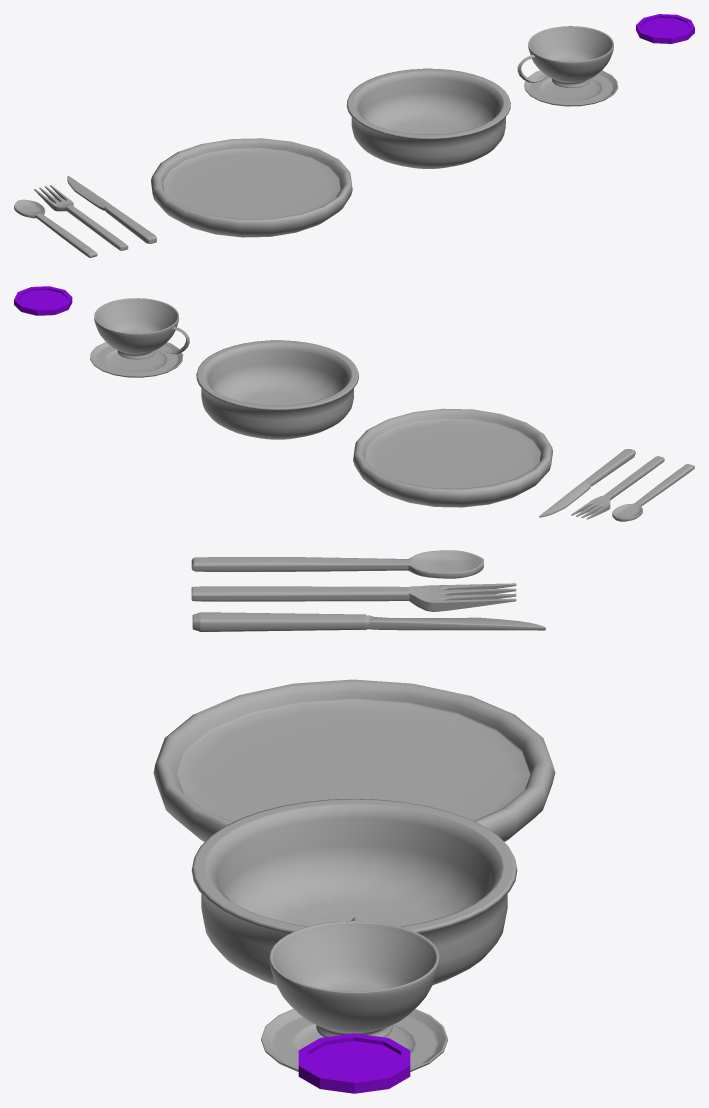
File: DiningRoom_Dishware_UVLens.fbx
The picture shows the model from 3 angles, top to bottom: view 1: azimuth 30°, elevation 25°; view 2: azimuth 150°, elevation 25°; view 3: azimuth 270°, elevation 25°; orthographic projection. The views are drawn at different scales.
Visible parts, largest first — view 1: Dishware_Plate, Dishware_Bowl, pCylinder4, Dishware_Saucer, Dishware_Fork, Dishware_Knife, Dishware_Spoon, polySurface1, pCylinder6; view 2: Dishware_Plate, Dishware_Bowl, pCylinder4, Dishware_Saucer, Dishware_Knife, Dishware_Fork, Dishware_Spoon, polySurface1, pCylinder6; view 3: Dishware_Plate, Dishware_Bowl, pCylinder4, Dishware_Fork, Dishware_Knife, Dishware_Spoon, Dishware_Saucer, polySurface1, pCylinder6.
Boxes of the visible parts, <box> form: Dishware_Plate: <box>151,138,352,237</box>; Dishware_Bowl: <box>346,68,510,168</box>; pCylinder4: <box>528,26,613,87</box>; Dishware_Saucer: <box>524,70,618,106</box>; Dishware_Fork: <box>34,185,128,250</box>; Dishware_Knife: <box>67,175,156,243</box>; Dishware_Spoon: <box>14,199,97,257</box>; polySurface1: <box>636,14,694,43</box>; pCylinder6: <box>641,18,689,36</box>; Dishware_Plate: <box>353,408,552,507</box>; Dishware_Bowl: <box>196,340,358,439</box>; pCylinder4: <box>94,298,179,359</box>; Dishware_Saucer: <box>90,342,183,377</box>; Dishware_Knife: <box>539,449,635,517</box>; Dishware_Fork: <box>571,456,664,519</box>; Dishware_Spoon: <box>612,464,694,521</box>; polySurface1: <box>14,286,72,315</box>; pCylinder6: <box>19,290,66,308</box>; Dishware_Plate: <box>153,679,555,841</box>; Dishware_Bowl: <box>191,799,517,984</box>; pCylinder4: <box>269,921,439,1037</box>; Dishware_Fork: <box>191,583,516,611</box>; Dishware_Knife: <box>192,612,545,631</box>; Dishware_Spoon: <box>191,550,483,578</box>; Dishware_Saucer: <box>261,1009,447,1071</box>; polySurface1: <box>298,1033,410,1093</box>; pCylinder6: <box>307,1041,401,1078</box>.
Bounding box in the file's own units: 7.05 × 0.8103 × 1.9.
